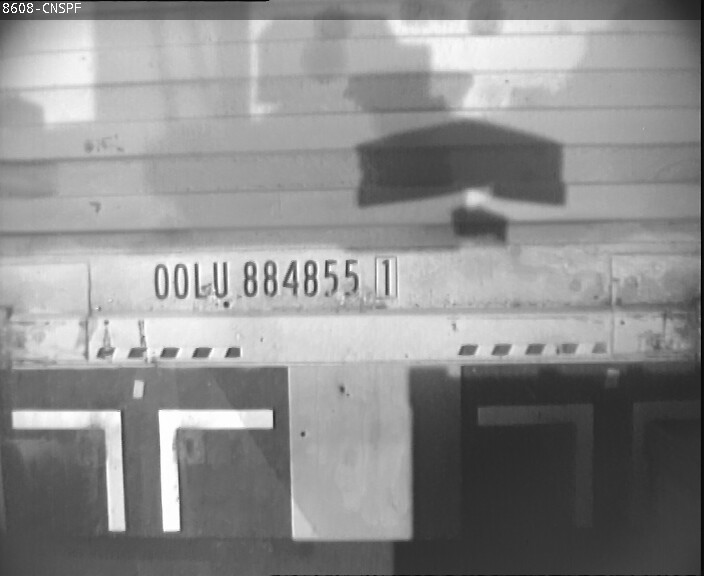groundmarker_1: (9, 407, 271, 533), (477, 402, 704, 524)
